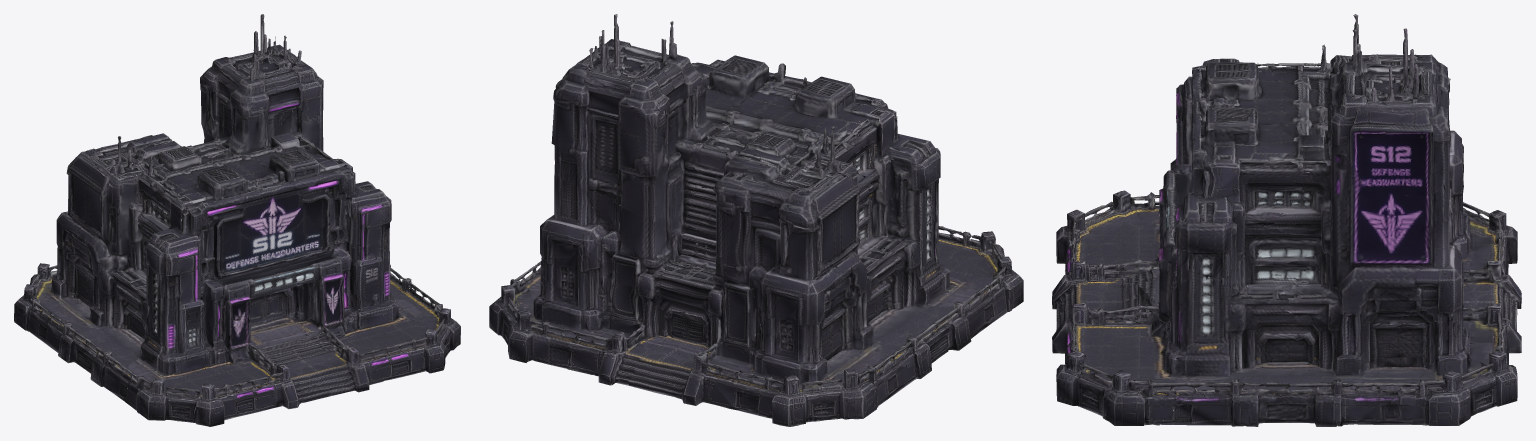
The model's file is s12DefenseHeadquarters_LOD0.glb.
The picture shows the model from 3 angles, left to right: view 1: azimuth 30°, elevation 25°; view 2: azimuth 150°, elevation 25°; view 3: azimuth 270°, elevation 25°; orthographic projection. The views are drawn at different scales.
Visible parts, largest first — view 1: Mesh_0.006; view 2: Mesh_0.006; view 3: Mesh_0.006.
Boxes of the visible parts, x1,y1,x2,y2 form: Mesh_0.006: (14,14,460,426); Mesh_0.006: (489,14,1023,426); Mesh_0.006: (1052,14,1521,426).
Bounding box in the file's own units: 1.9 × 1.54 × 1.9.
Materials: 1 (1 with a texture image).
